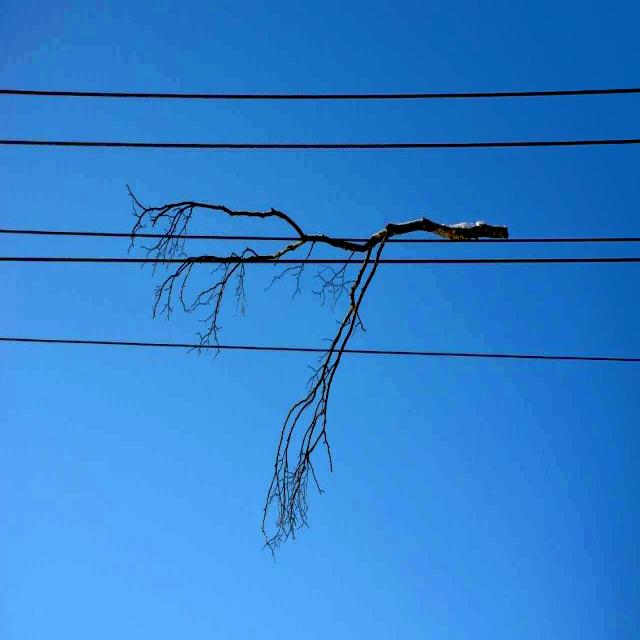obstruction: (128, 186, 508, 549)
wires: (0, 86, 640, 101), (0, 137, 640, 150), (0, 336, 329, 354), (344, 350, 640, 362), (380, 256, 640, 266), (390, 236, 640, 244), (0, 229, 130, 238), (0, 257, 166, 263), (280, 258, 360, 266), (190, 235, 298, 240)
